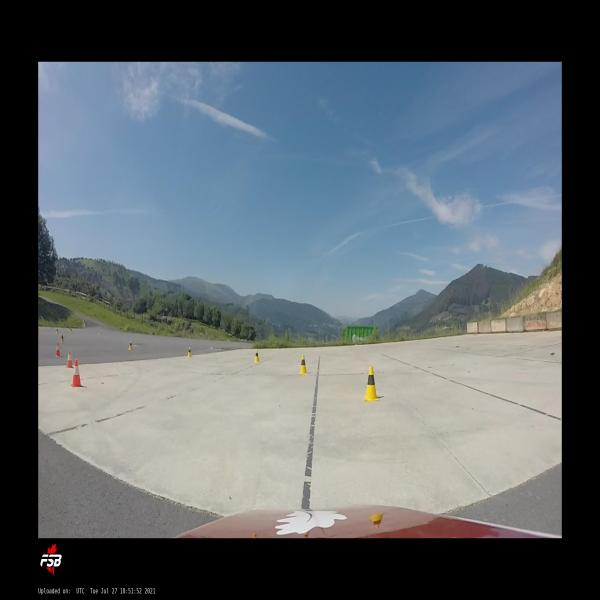orange_cone: (70, 360, 83, 388), (66, 351, 74, 368), (56, 343, 60, 357)
yellow_cone: (364, 366, 379, 400), (299, 354, 308, 375), (254, 350, 259, 363), (188, 346, 192, 358), (128, 341, 132, 351), (61, 333, 64, 343)
